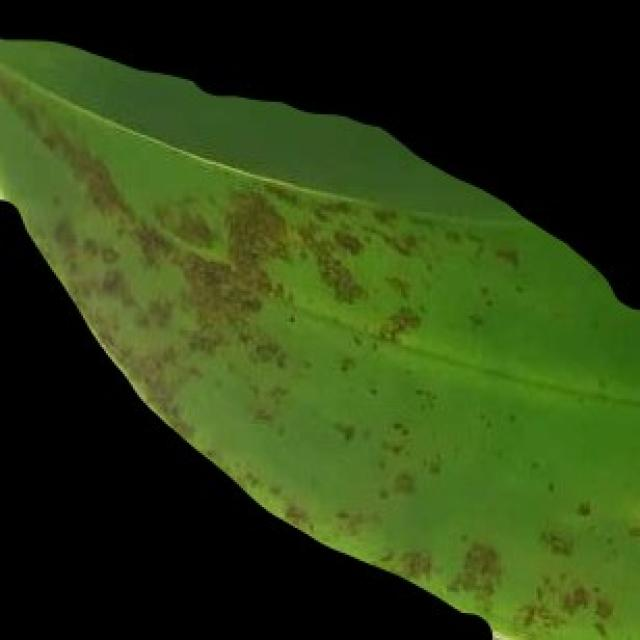mite: (127, 185, 638, 553), (330, 418, 355, 443), (574, 497, 592, 515), (389, 418, 407, 436)
spots: (0, 31, 638, 638)
